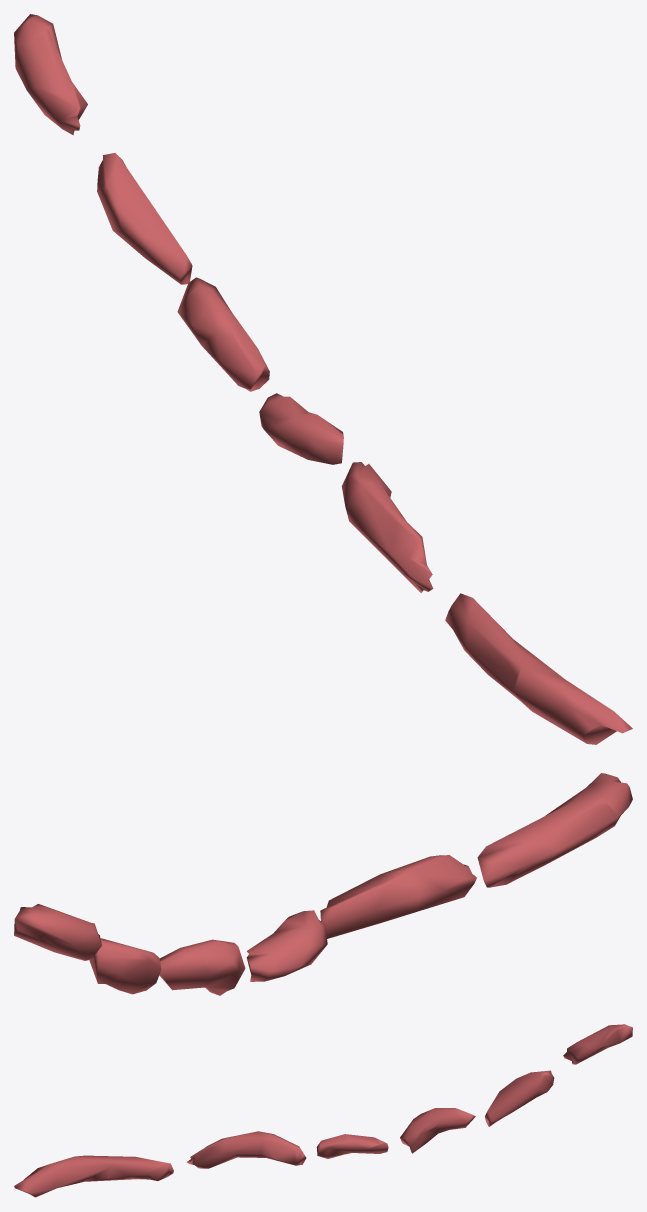
3 renders of one model, top to bottom at view 1: azimuth 30°, elevation 25°; view 2: azimuth 150°, elevation 25°; view 3: azimuth 270°, elevation 25°, orthographic. The views are drawn at different scales.
Visible parts, largest first — view 1: 右侧颈棘间肌; view 2: 右侧颈棘间肌; view 3: 右侧颈棘间肌.
Boxes of the visible parts, <box> form: 右侧颈棘间肌: <box>14,14,632,744</box>; 右侧颈棘间肌: <box>14,773,632,995</box>; 右侧颈棘间肌: <box>14,1024,632,1197</box>.
Size of the model in its own units: 0.01 by 0.0406 by 0.1331.
